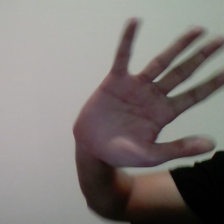left: (58, 13, 224, 168)
